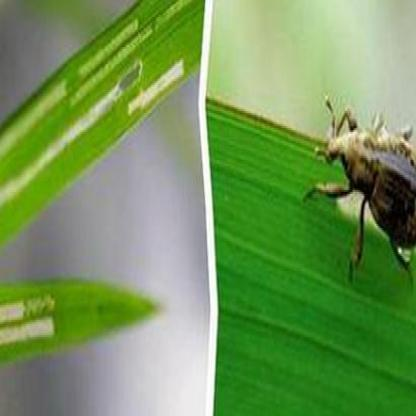rice-bug: (316, 105, 414, 272)
